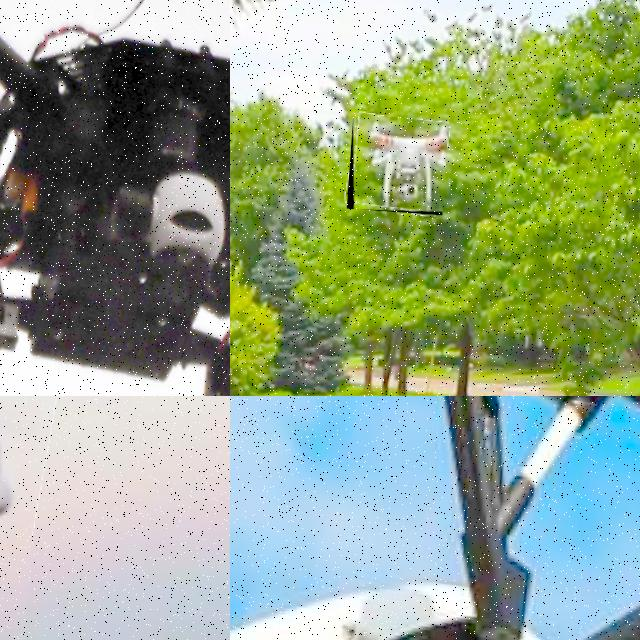drone: (230, 396, 640, 640), (0, 0, 230, 396), (346, 113, 449, 215)
